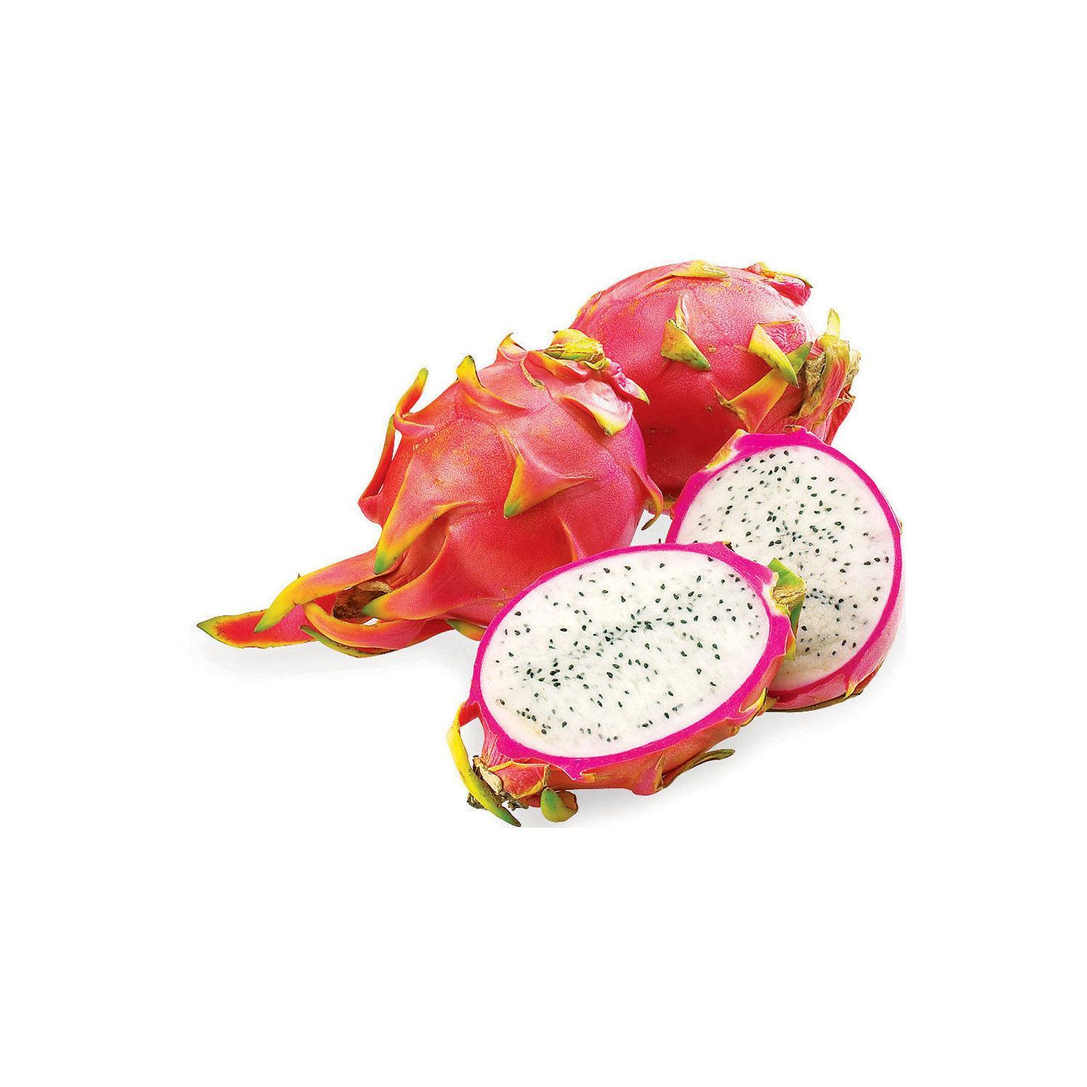dragon-fruit: (471, 536, 788, 797), (373, 344, 654, 629), (567, 255, 864, 522), (663, 426, 906, 716)
